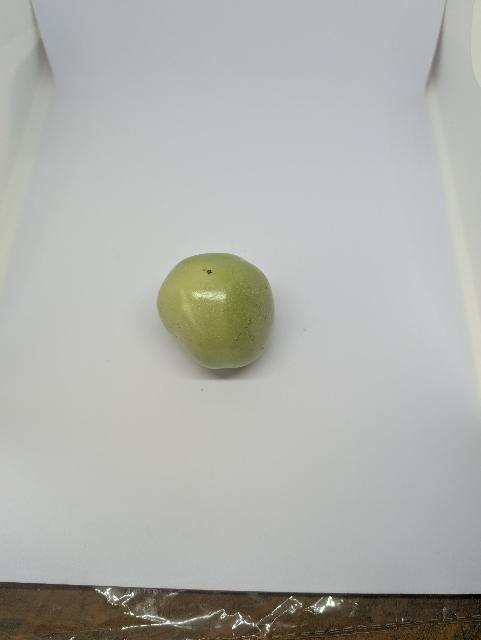green: (155, 251, 278, 373)
